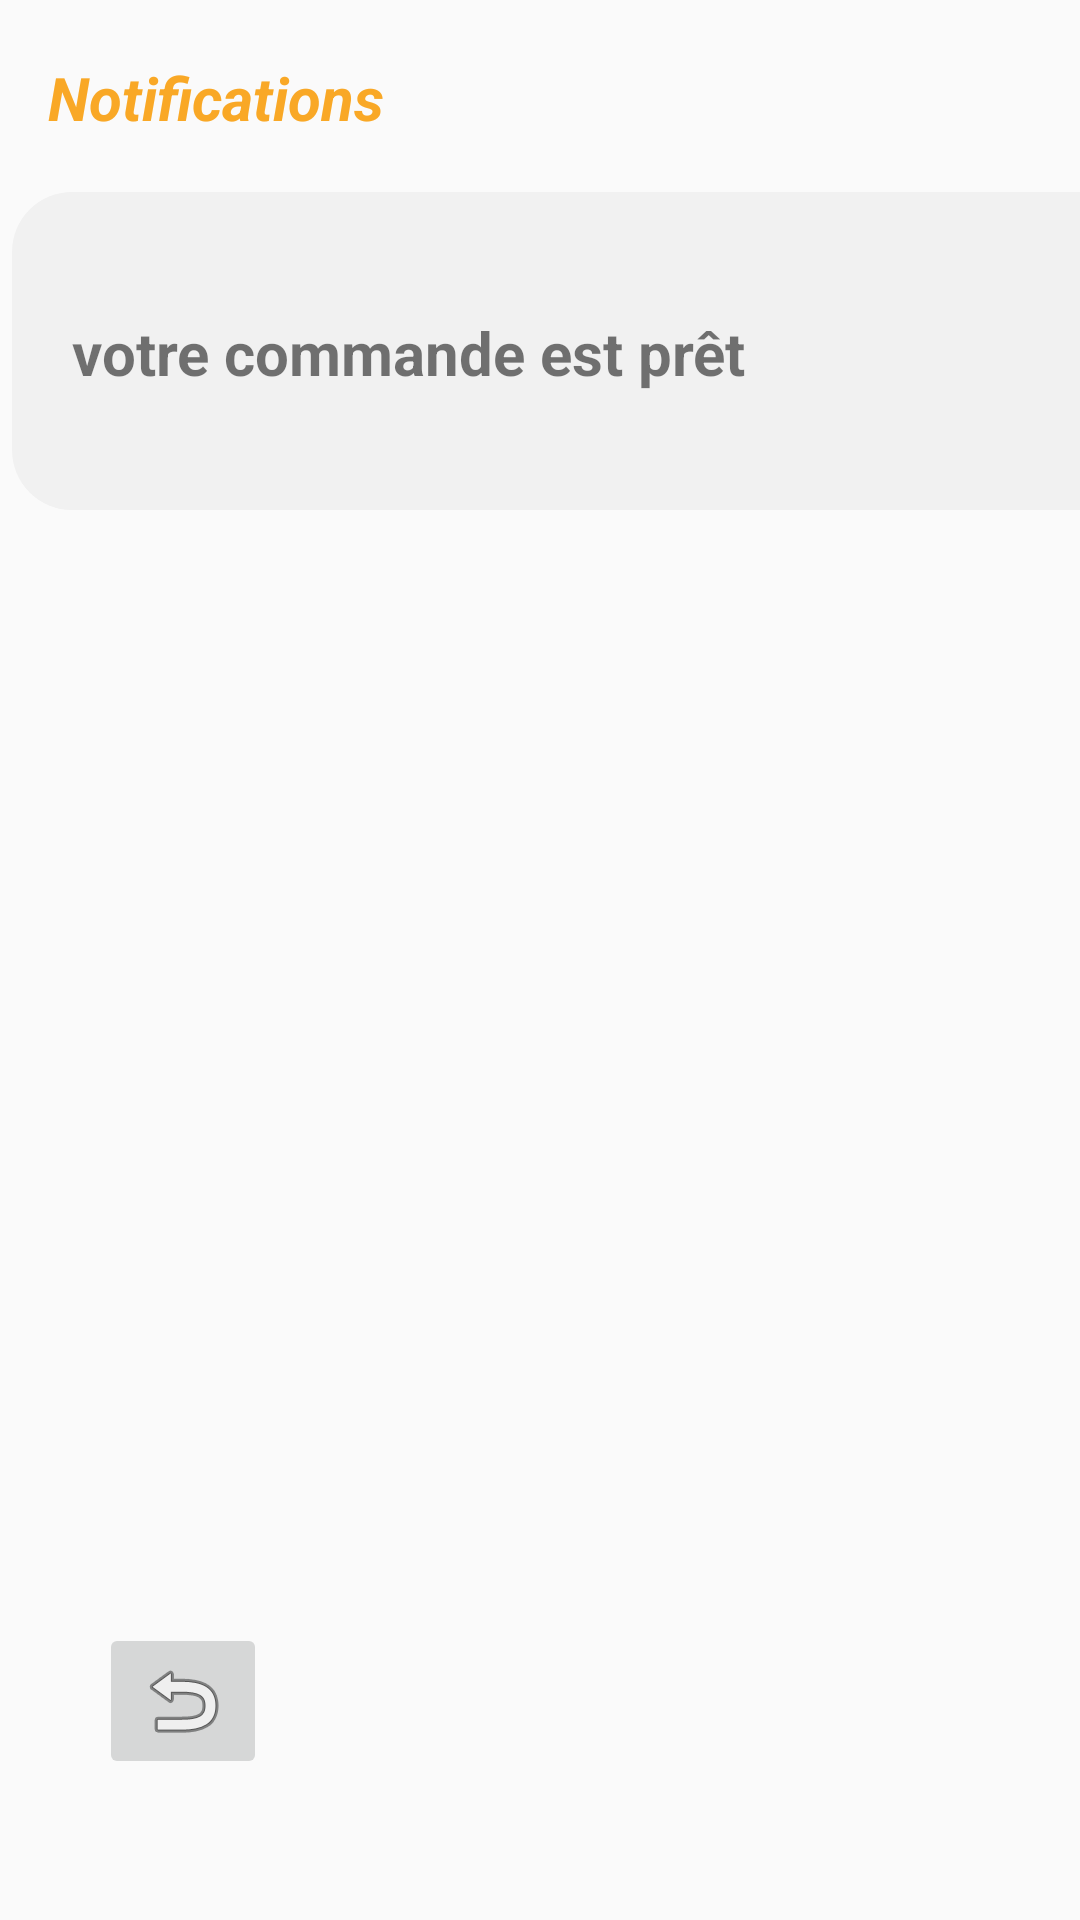

Icons on this 1080×1920 Android screen, each with the point to tap as [x,y]:
revert: [183,1701]
